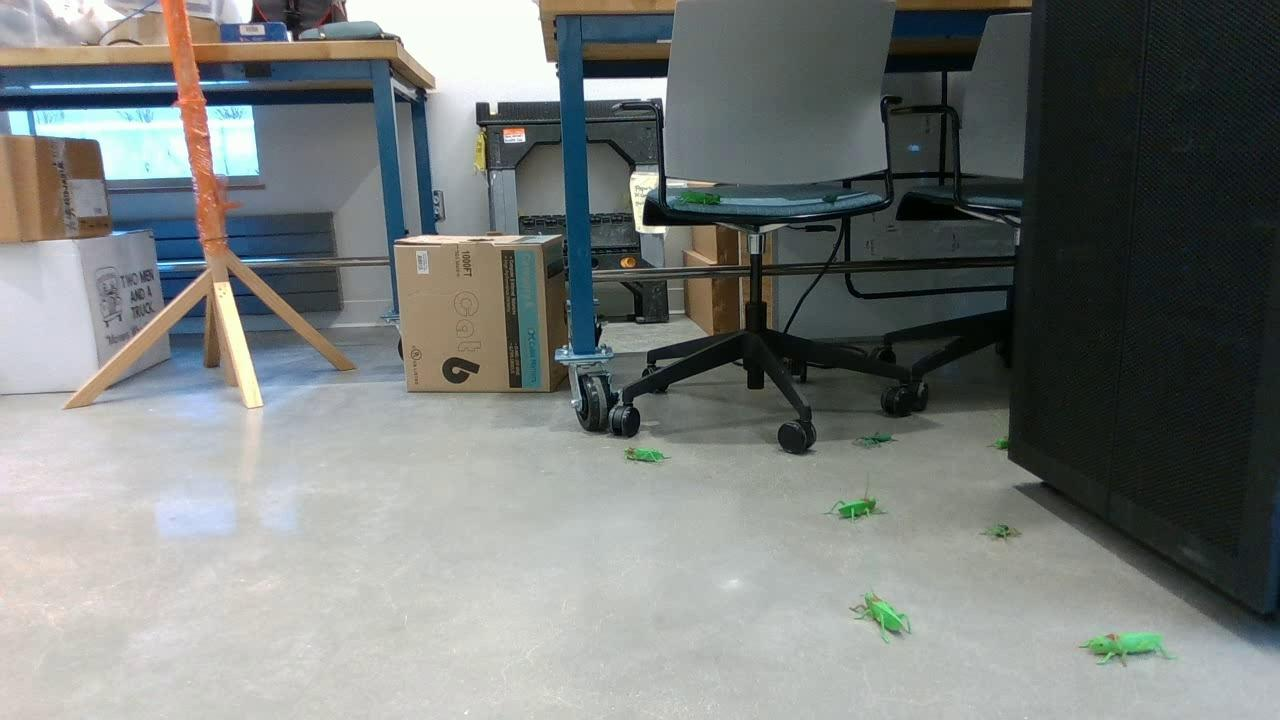grasshopper: (1080, 624, 1180, 666), (851, 591, 917, 643), (622, 444, 669, 469), (676, 186, 723, 211), (832, 500, 880, 518), (992, 433, 1015, 449)
